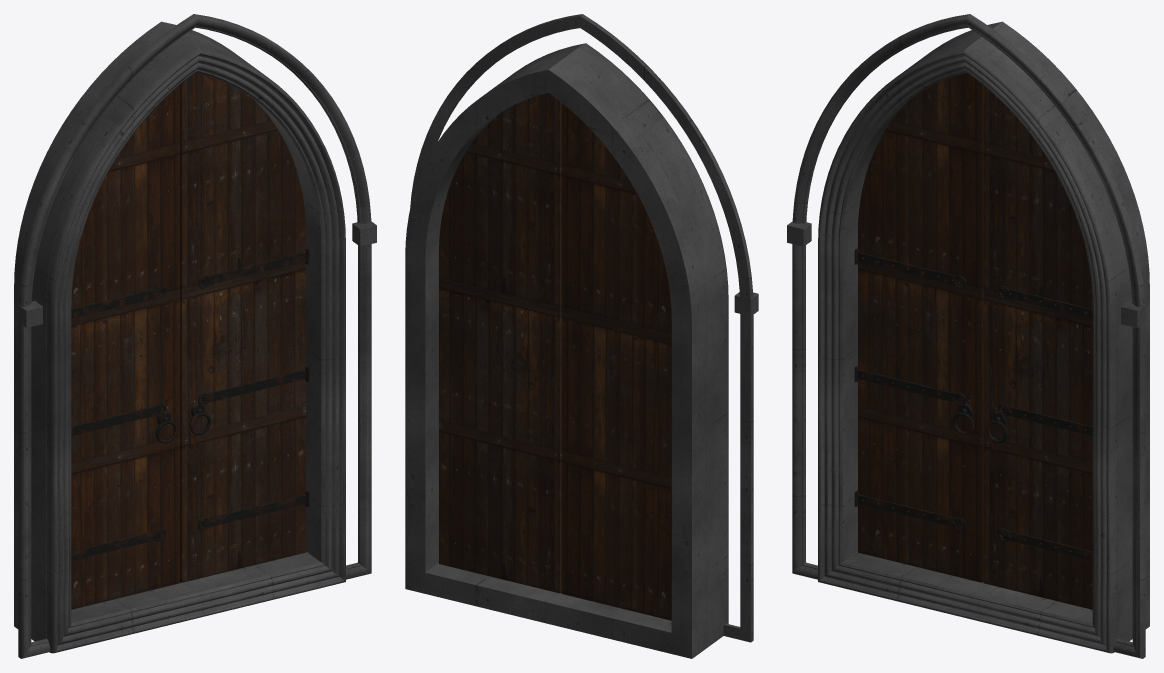
File: Door_Gothic.gltf
The picture shows the model from 3 angles, left to right: view 1: azimuth 30°, elevation 25°; view 2: azimuth 150°, elevation 25°; view 3: azimuth 330°, elevation 25°; orthographic projection. The views are drawn at different scales.
Parts seen in each view (by area): view 1: Door_Gothic_Frame, Door_Gothic_LeafR, Door_Gothic_LeafL, Door_Gothic_LeafR_Iron, Door_Gothic_LeafL_Iron; view 2: Door_Gothic_Frame, Door_Gothic_LeafR, Door_Gothic_LeafL; view 3: Door_Gothic_Frame, Door_Gothic_LeafL, Door_Gothic_LeafR, Door_Gothic_LeafL_Iron, Door_Gothic_LeafR_Iron.
Boxes of the visible parts, x1=… form: Door_Gothic_Frame: x1=14, y1=14, x2=376, y2=658; Door_Gothic_LeafR: x1=180, y1=73, x2=305, y2=582; Door_Gothic_LeafL: x1=71, y1=85, x2=180, y2=609; Door_Gothic_LeafR_Iron: x1=189, y1=248, x2=309, y2=530; Door_Gothic_LeafL_Iron: x1=71, y1=286, x2=177, y2=560; Door_Gothic_Frame: x1=405, y1=14, x2=758, y2=658; Door_Gothic_LeafR: x1=439, y1=93, x2=561, y2=593; Door_Gothic_LeafL: x1=561, y1=103, x2=671, y2=620; Door_Gothic_Frame: x1=787, y1=14, x2=1149, y2=658; Door_Gothic_LeafL: x1=858, y1=73, x2=983, y2=582; Door_Gothic_LeafR: x1=983, y1=85, x2=1092, y2=609; Door_Gothic_LeafL_Iron: x1=854, y1=248, x2=974, y2=530; Door_Gothic_LeafR_Iron: x1=986, y1=286, x2=1092, y2=560.
Size of what is drawn, in the model's own units: 2.5 by 4.09 by 0.5.
3 materials, 3 textured.
